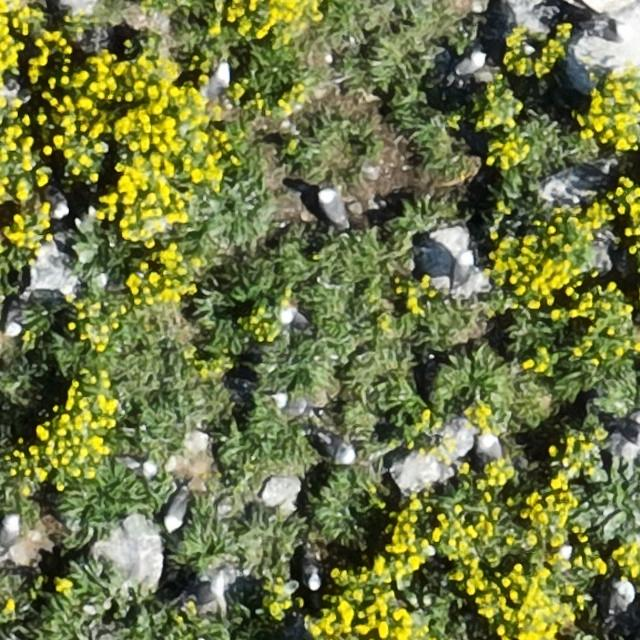umineko: (40, 179, 70, 221), (272, 394, 318, 416), (320, 189, 347, 226), (609, 578, 635, 616), (208, 63, 230, 105), (323, 436, 356, 462), (189, 580, 223, 605), (165, 492, 186, 532), (6, 298, 26, 336), (455, 52, 486, 76), (452, 252, 472, 288), (1, 513, 20, 548), (303, 553, 321, 589), (478, 435, 502, 461), (280, 309, 307, 328), (617, 424, 640, 446)
